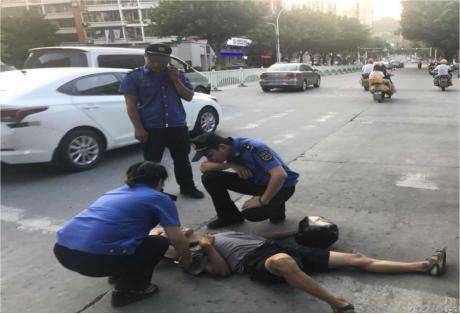bending: (50, 145, 195, 307), (174, 126, 306, 240)
down: (147, 211, 453, 314)
up: (113, 30, 208, 202)
